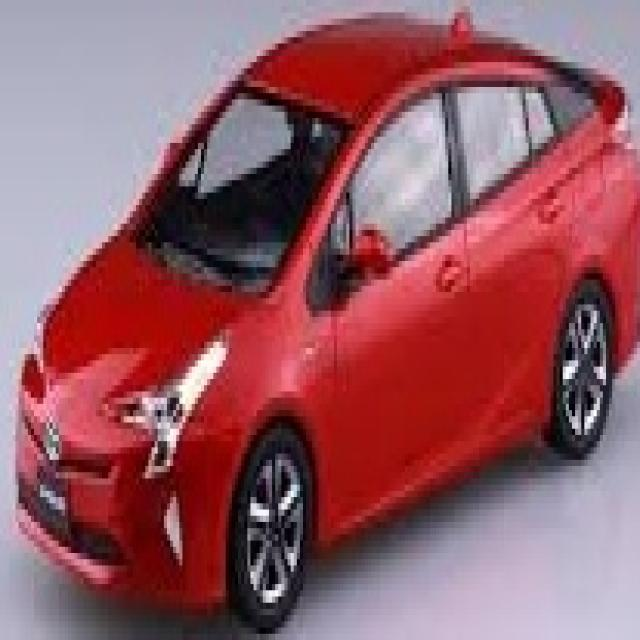red: (20, 10, 640, 589)
